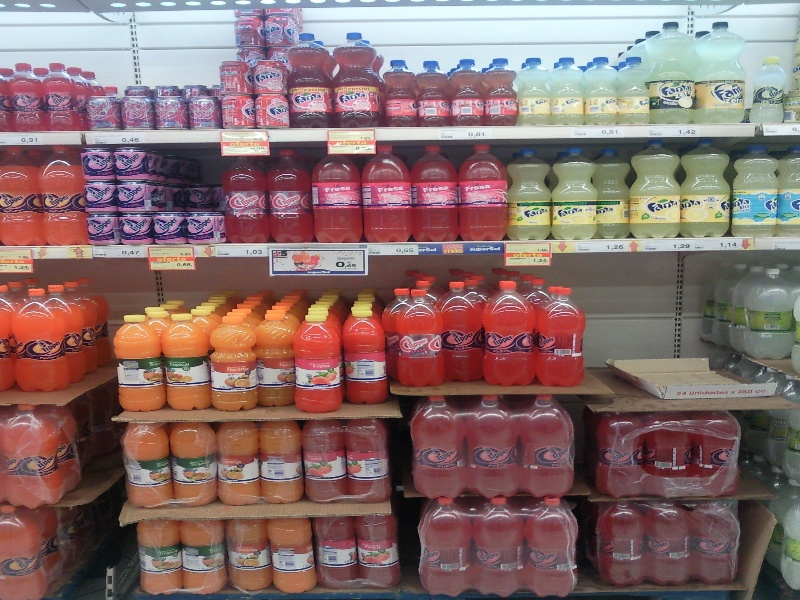lemonade: (14, 289, 78, 400), (694, 20, 753, 135), (327, 30, 388, 137), (516, 394, 578, 495), (414, 498, 475, 600), (406, 393, 464, 497), (108, 317, 167, 414), (485, 284, 540, 385), (456, 142, 511, 240), (466, 398, 520, 497), (290, 314, 345, 411), (394, 290, 449, 387), (478, 499, 530, 600), (208, 314, 260, 413), (505, 147, 559, 242), (527, 503, 580, 599), (409, 145, 461, 242), (630, 143, 682, 239), (682, 140, 731, 240), (162, 314, 213, 410), (361, 146, 411, 242), (285, 35, 335, 130), (543, 286, 588, 389), (343, 309, 390, 407), (311, 147, 359, 242), (553, 145, 597, 245), (222, 155, 270, 244), (735, 145, 780, 239), (267, 150, 312, 242)
